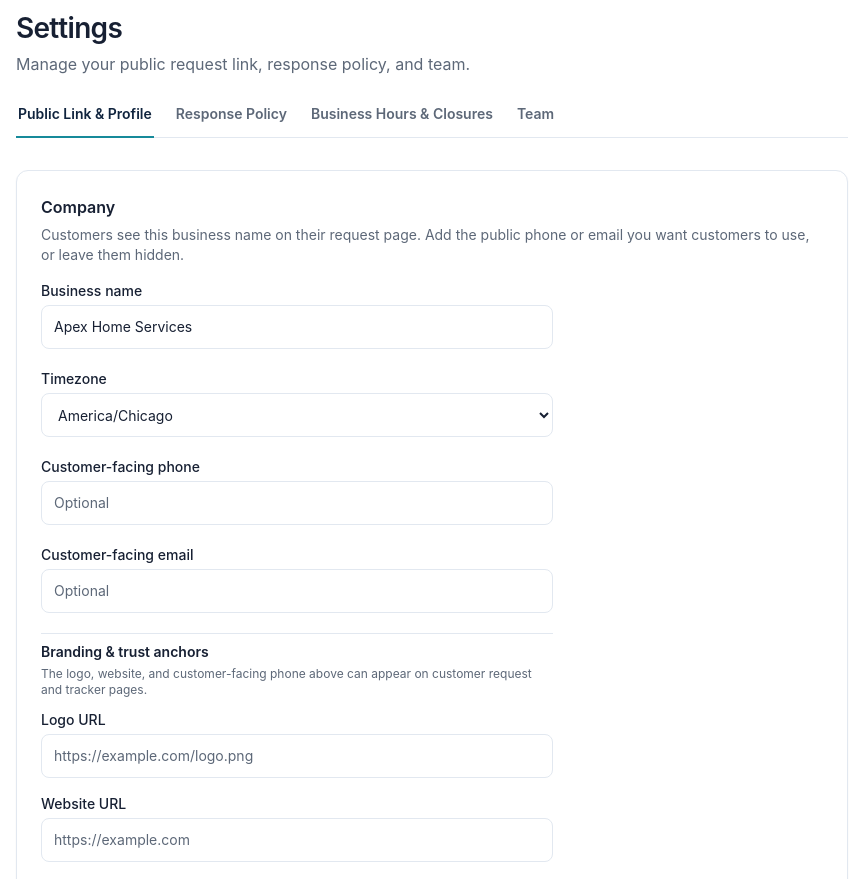
Test: Settings — V2 shell › shows a factual team member count instead of Solo workspace for more than one member
What coordinates should you click on to do the following:
click the tab "Team"
I would click on:
 (536, 115)
Its box is top-left (515, 92), bottom-right (556, 138).
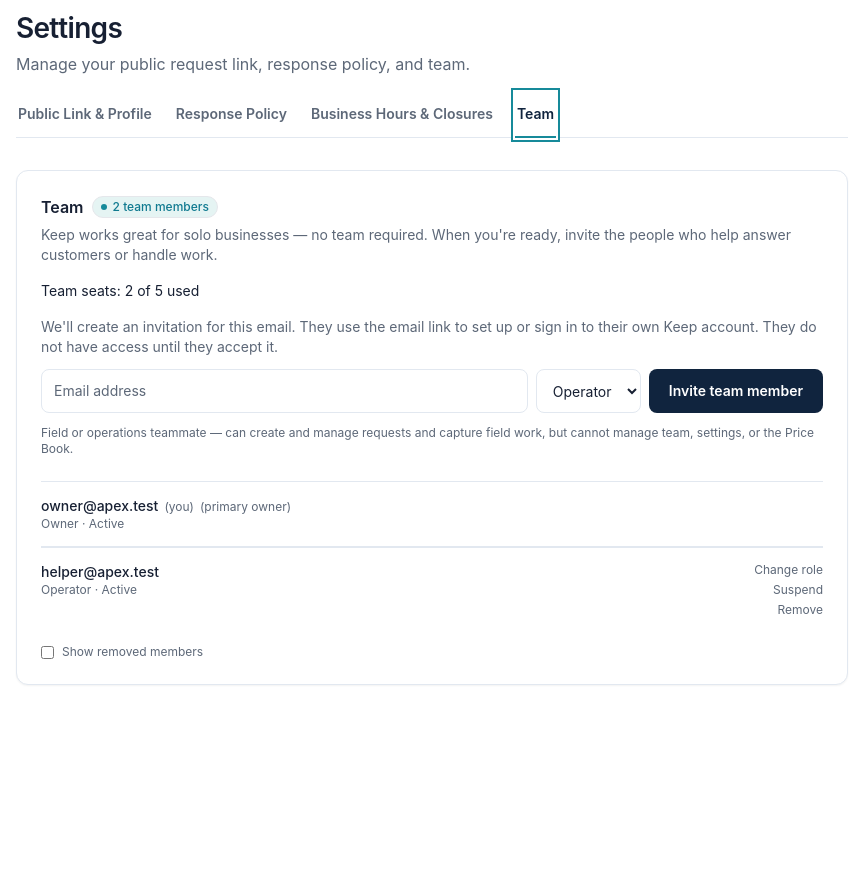
expect the text "2 team members" is shown: met, box top-left (92, 196), bottom-right (218, 218)
